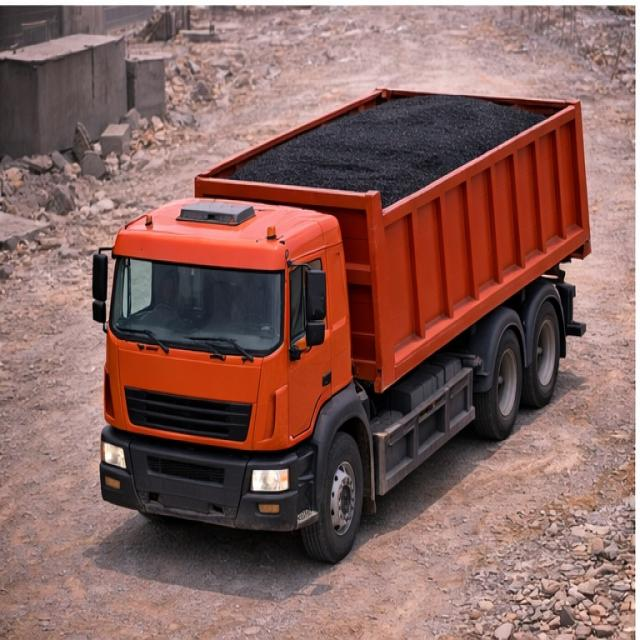Box: (199, 85, 577, 206)
Truck: (84, 82, 600, 542)
